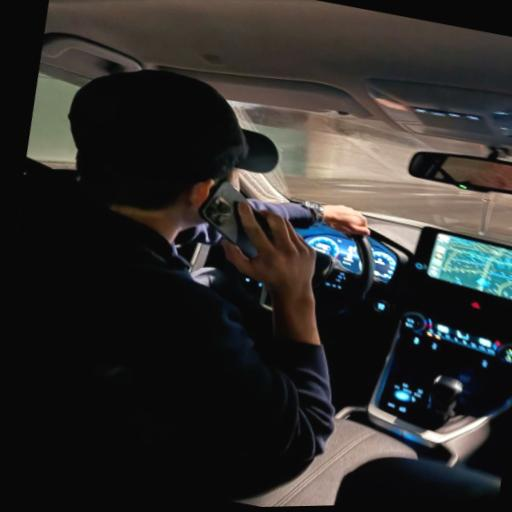Hands-on-the-Wheel: (302, 185, 415, 260)
